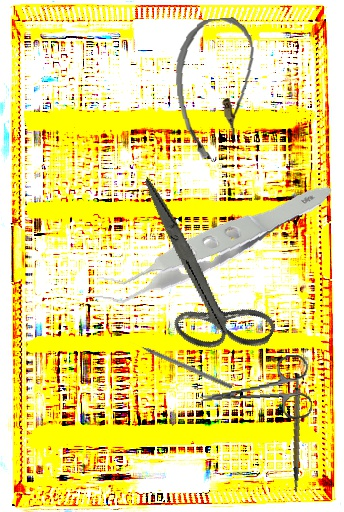Cannula: (171, 15, 263, 162)
Hook Surgical: (128, 338, 234, 390)
Iris Scissors: (87, 175, 311, 377), (196, 353, 314, 429)
Scalpel Handle: (274, 372, 317, 493)
Tissue Forceps: (80, 159, 333, 326)
